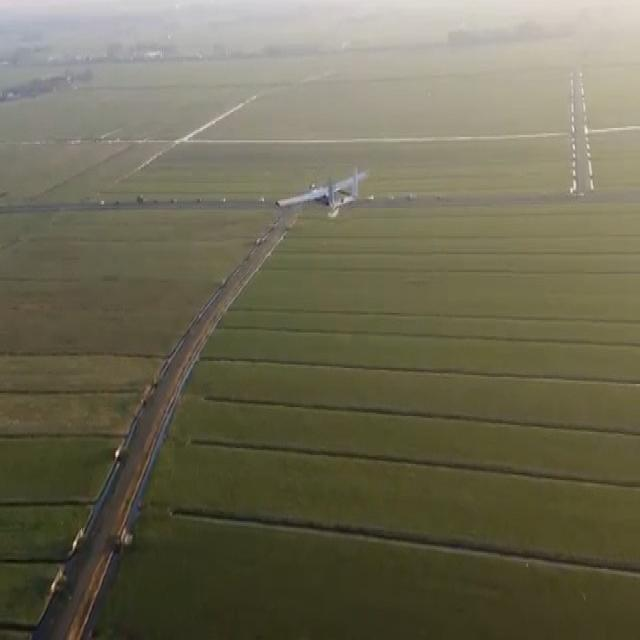drones: (274, 163, 373, 224)
